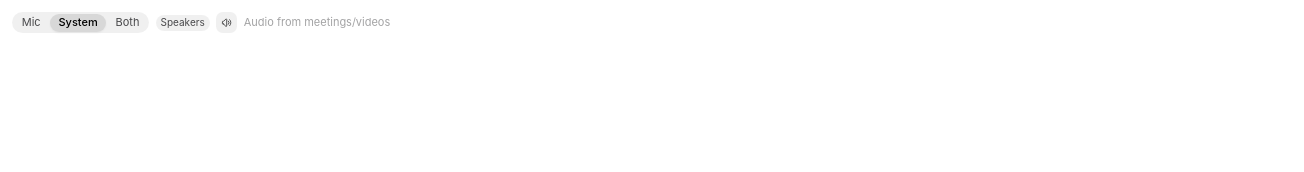
Test: AudioCapture speakers, questions and echo › should drop mic text that echoes the speakers in Both mode
Click the button "Both" at (127, 23), box x1=107 y1=14 x2=148 y2=32
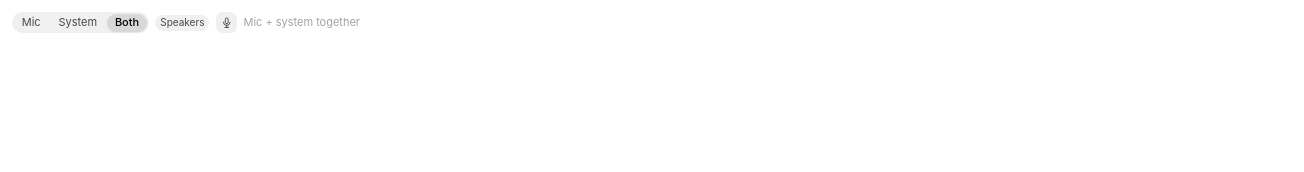
Click the button "Speakers" at (182, 23), box x1=155 y1=14 x2=209 y2=31
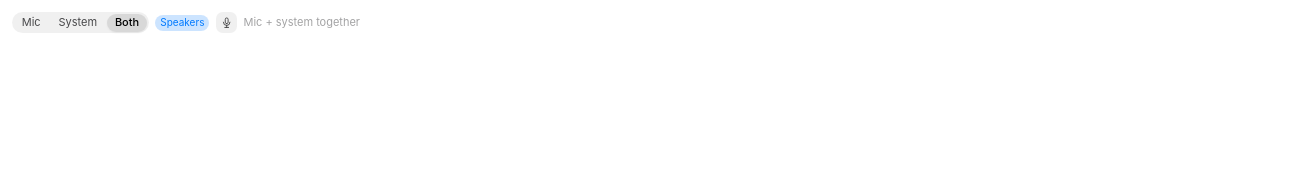
Click the button titled "Transcribe" at (226, 23), box x1=216 y1=12 x2=237 y2=33
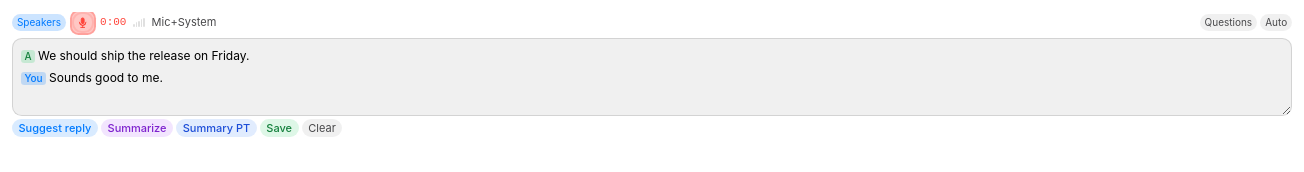
Expected: the text "We should ship the release on Friday." is shown, x1=38 y1=48 x2=249 y2=62
Expected: the text "Sounds good to me." is shown, x1=49 y1=70 x2=163 y2=85
